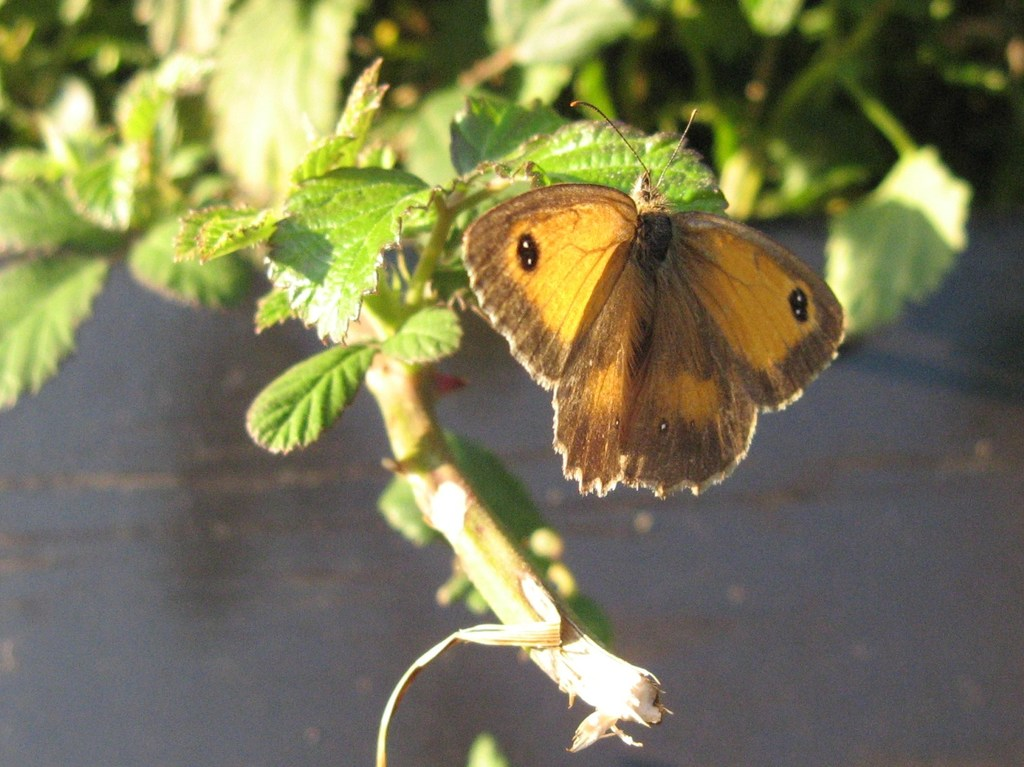Butterfly: (449, 166, 854, 515)
